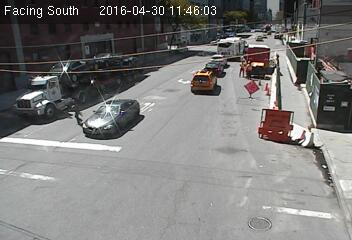neg: (255, 81, 278, 111), (251, 59, 270, 84), (269, 50, 285, 71), (241, 34, 256, 54)
pos: (63, 97, 86, 128), (234, 58, 251, 80)
